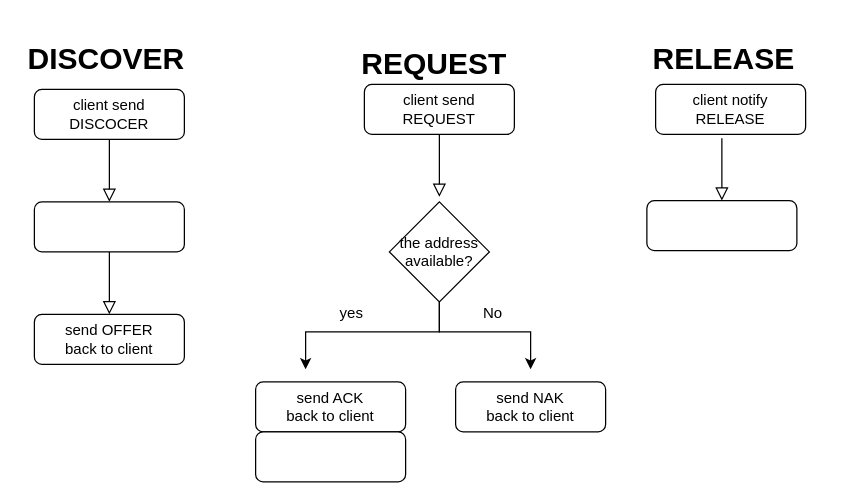
The diagram is 843 pixels wide and 504 high, and some of its shapes have lost their labels. Each missing label, with the centre of its shape:
Assign the address to the client: the point at 330,456
find an available IP address from range: the point at 108,226
release client address: the point at 721,225
